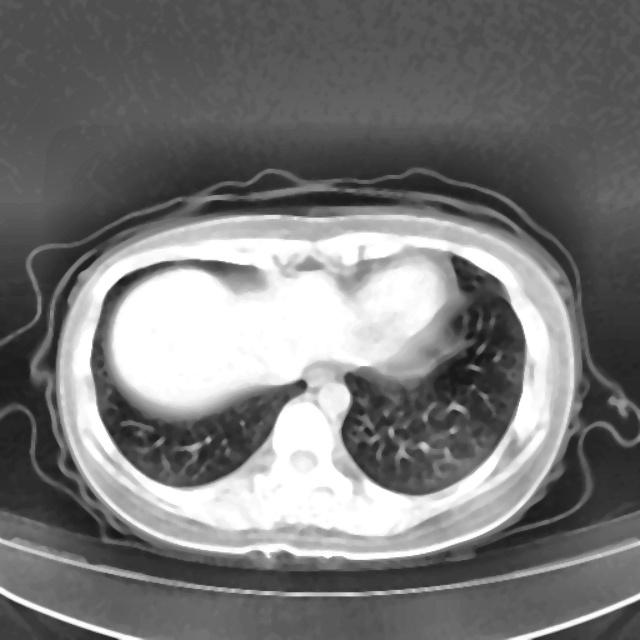covid: (18, 168, 609, 570)
